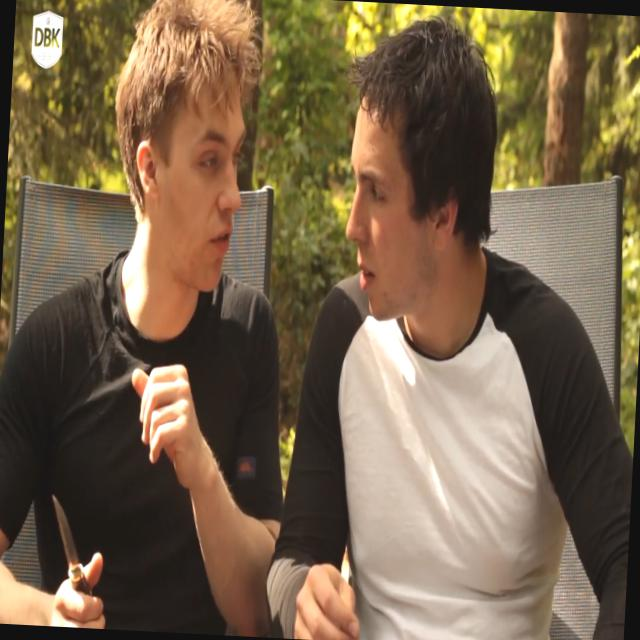knife: (36, 477, 120, 629)
